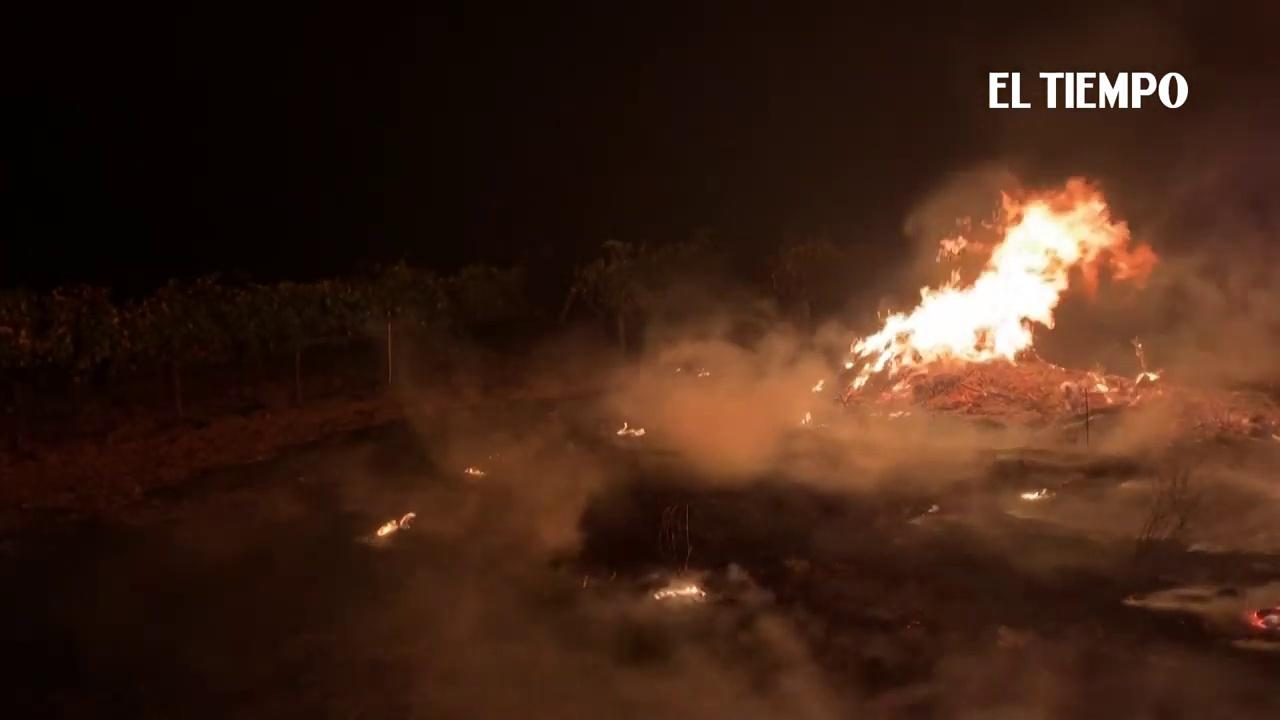Fire: (806, 176, 1147, 402), (654, 582, 714, 604), (377, 510, 419, 537), (615, 416, 651, 440), (1018, 488, 1054, 501)
